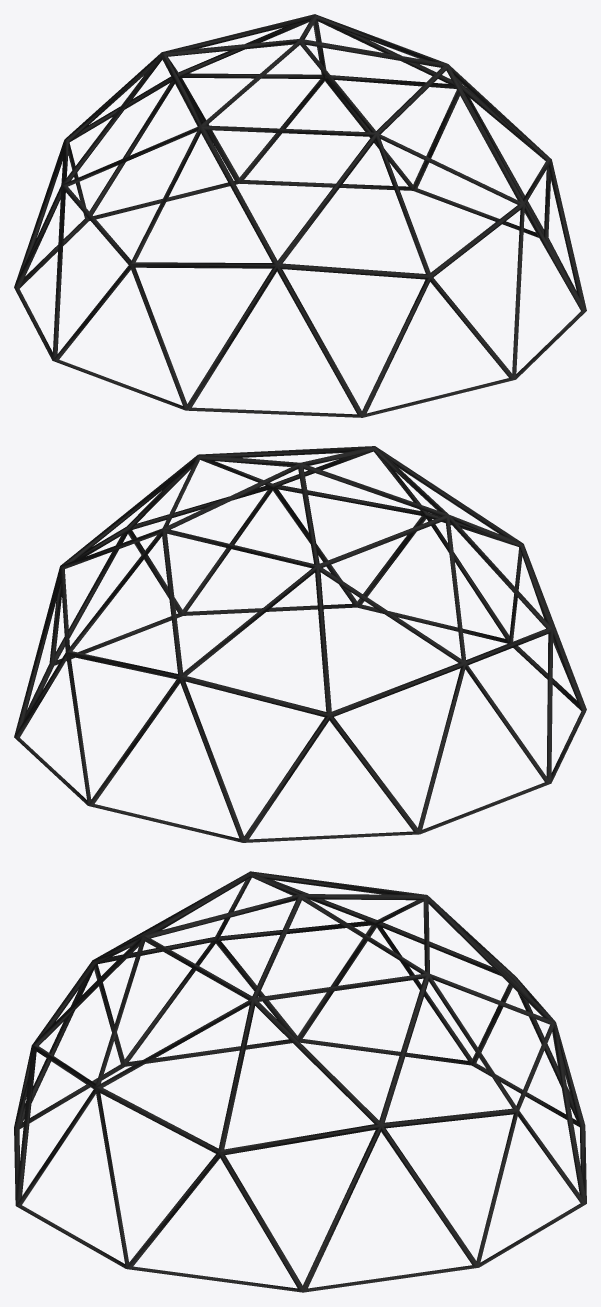
Rendered from Cupula4.obj.
3 renders of one model, top to bottom at view 1: azimuth 30°, elevation 25°; view 2: azimuth 150°, elevation 25°; view 3: azimuth 270°, elevation 25°, orthographic. The views are drawn at different scales.
Visible parts, largest first — view 1: Icosphere; view 2: Icosphere; view 3: Icosphere.
Boxes of the visible parts, <box> form: Icosphere: <box>14,14,586,417</box>; Icosphere: <box>14,446,586,842</box>; Icosphere: <box>14,871,586,1292</box>.
Size of the model in its own units: 8.47 by 4.24 by 8.07.
Materials: 1 (1 with a texture image).
